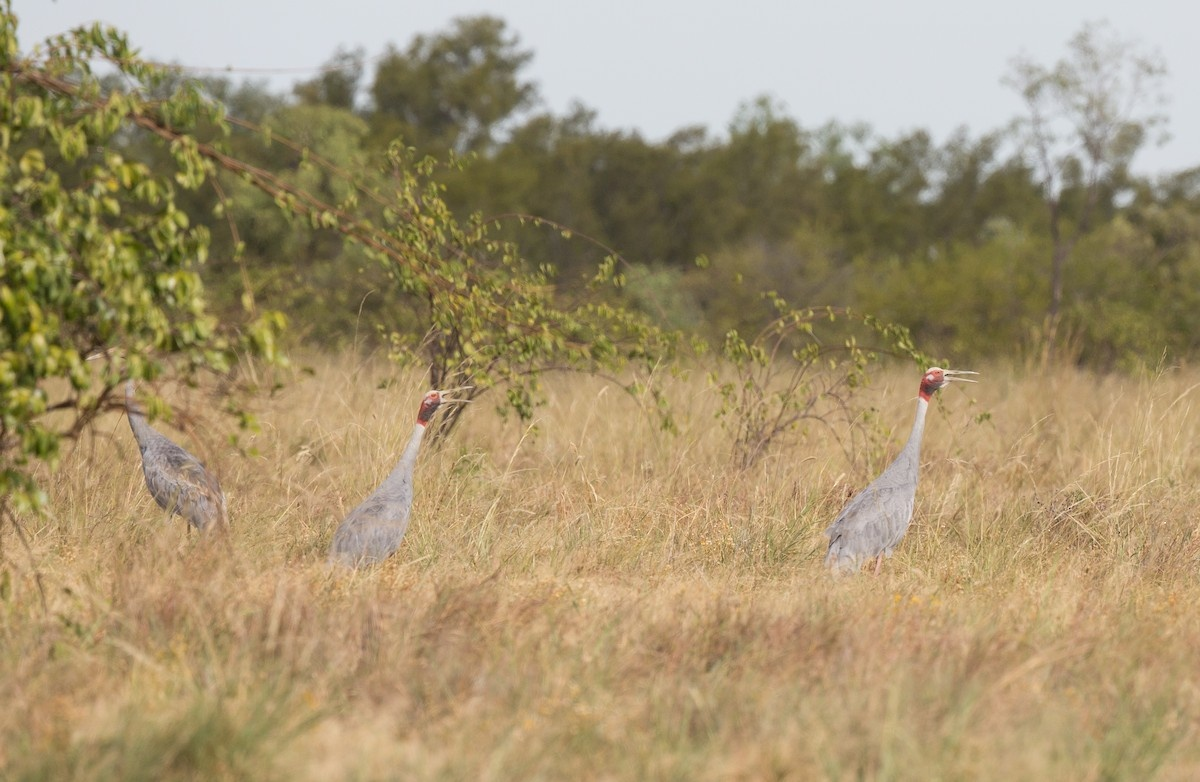crane: (818, 360, 989, 588), (329, 373, 489, 564)
